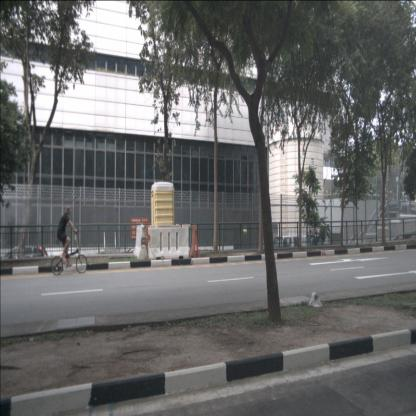barrier: (148, 226, 190, 262), (133, 226, 148, 260), (189, 225, 202, 257)
